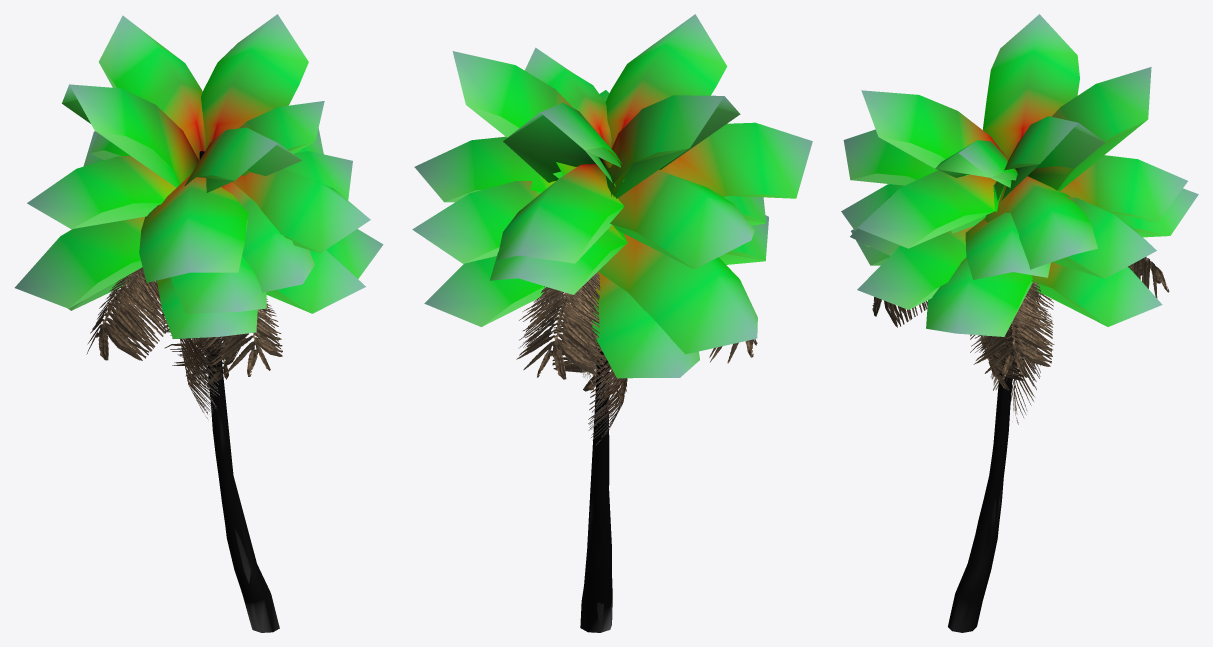
File: Palm03.dae
3 renders of one model, left to right at view 1: azimuth 30°, elevation 25°; view 2: azimuth 150°, elevation 25°; view 3: azimuth 270°, elevation 25°, orthographic. The views are drawn at different scales.
Visible parts, largest first — view 1: PalmThree256, PalmThree128, PalmThree96; view 2: PalmThree256, PalmThree96, PalmThree128; view 3: PalmThree256, PalmThree128, PalmThree96.
Part boxes in pixels (x1,y1,x2,y2): PalmThree256: (14,14,383,632); PalmThree128: (69,63,316,619); PalmThree96: (62,77,318,475); PalmThree256: (412,14,812,632); PalmThree96: (444,106,765,430); PalmThree128: (445,96,794,632); PalmThree256: (841,14,1198,632); PalmThree128: (850,120,1167,625); PalmThree96: (868,120,1168,472).
Size of what is drawn, in the model's own units: 238 by 241 by 400.
